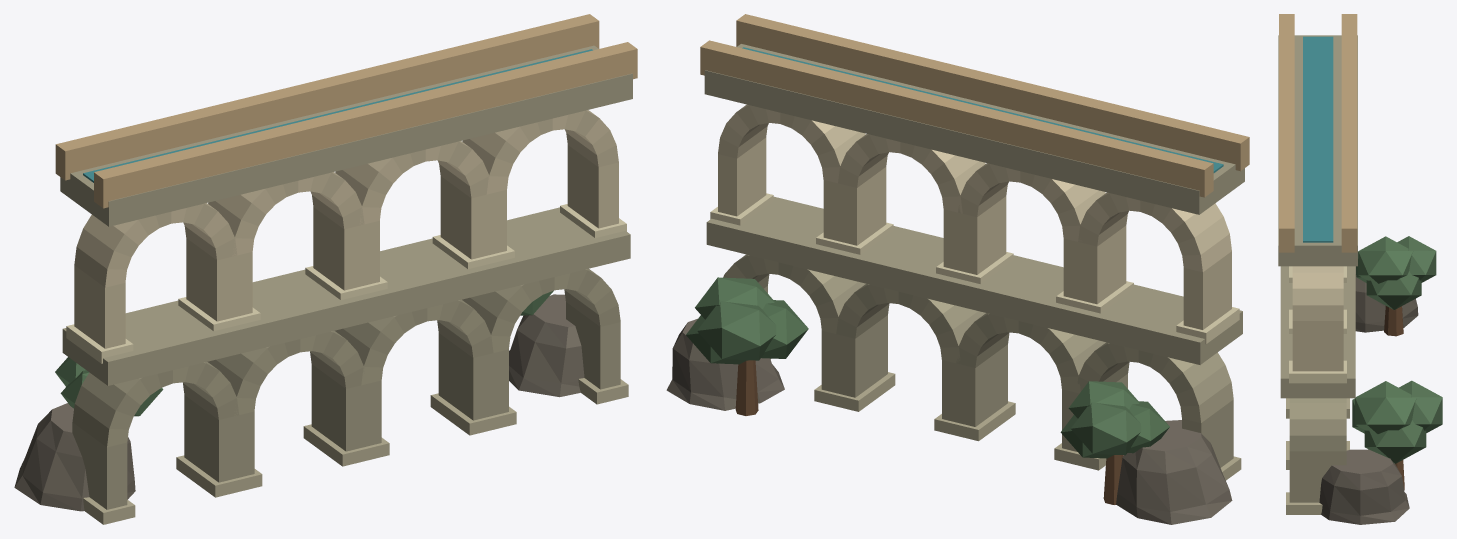
3 renders of one model, left to right at view 1: azimuth 30°, elevation 25°; view 2: azimuth 150°, elevation 25°; view 3: azimuth 270°, elevation 25°, orthographic. The views are drawn at different scales.
Visible parts, largest first — view 1: S39_古罗马城 · 山谷水道; view 2: S39_古罗马城 · 山谷水道; view 3: S39_古罗马城 · 山谷水道.
Part boxes in pixels (left/top/right/bottom): S39_古罗马城 · 山谷水道: left=14, top=14, right=637, bottom=524; S39_古罗马城 · 山谷水道: left=666, top=14, right=1249, bottom=524; S39_古罗马城 · 山谷水道: left=1278, top=14, right=1442, bottom=524.
Bounding box in the file's own units: 4.55 × 2.64 × 1.36.
